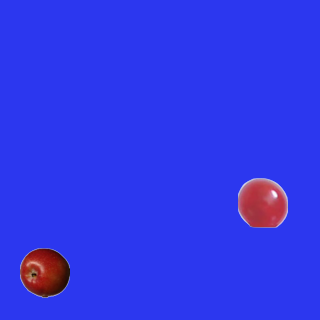Apple Braeburn: (19, 247, 69, 297)
Redcurrant: (237, 177, 287, 227)
